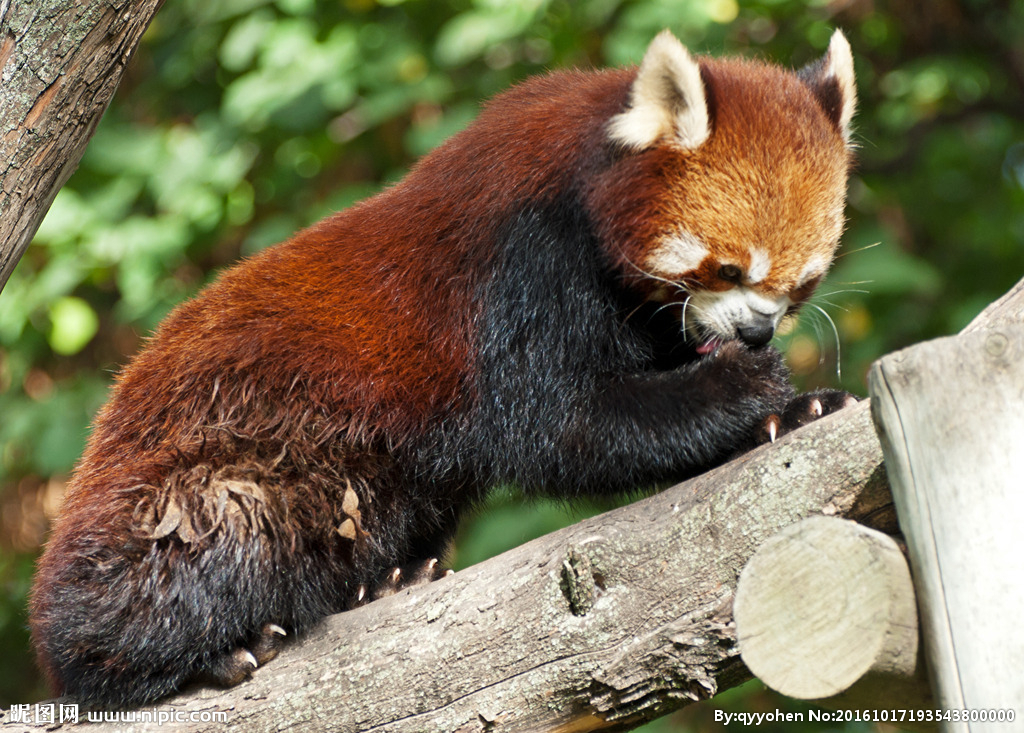raccoon: (22, 21, 874, 733)
